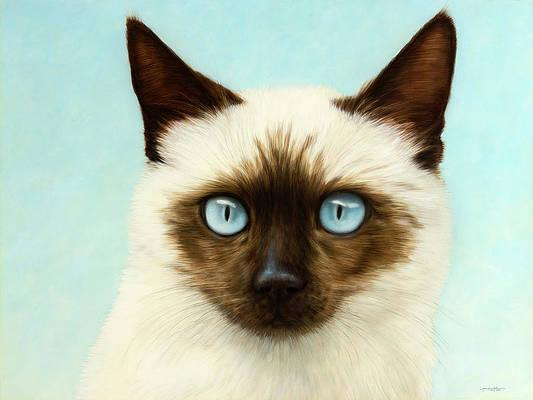siamese: (120, 9, 477, 356)
